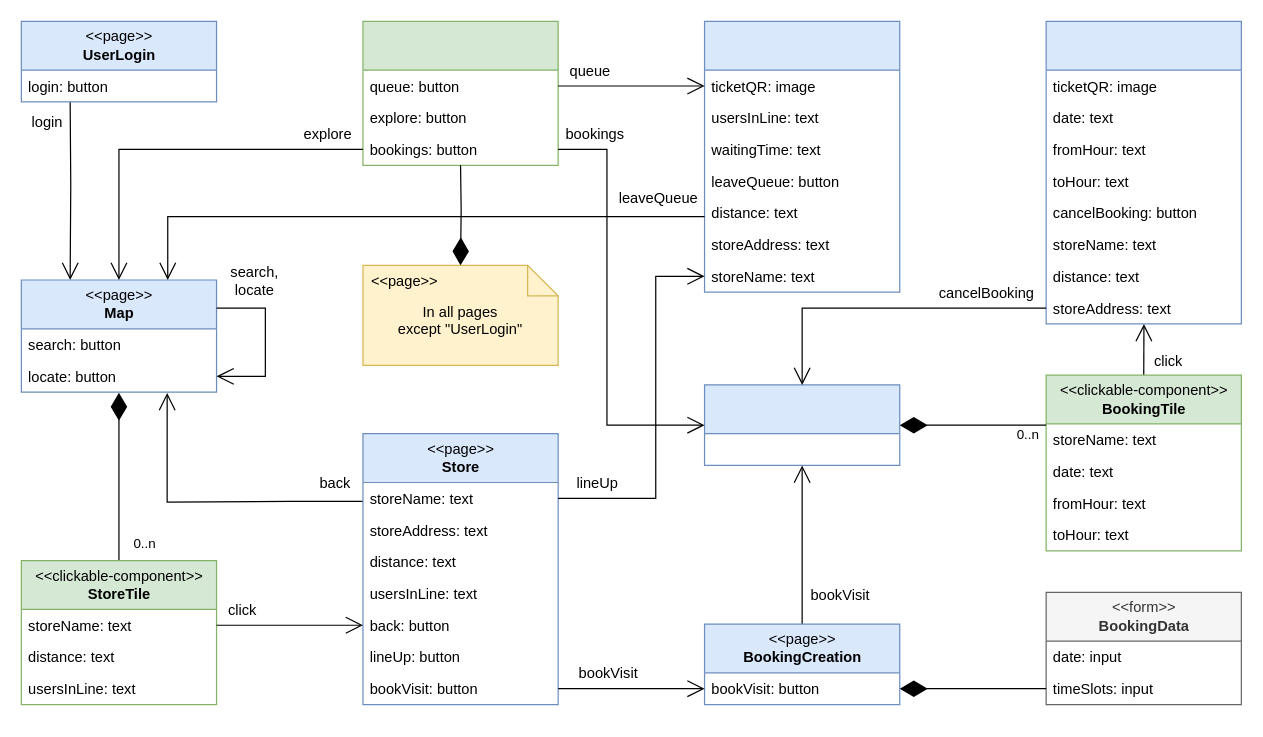
Some shapes in this 1263 by 737 pixel diagram are drawn without their labels. The shapes that lost their labels are listed below. From the top down, each one's box as (x1, y1, x2, y2) in pixels, then its label:
(362, 20, 558, 165): <<component>> NavBar
(703, 20, 900, 292): <<page>> Queue
(1045, 20, 1241, 324): <<page>> Booking
(703, 384, 900, 465): <<page>> Bookings
